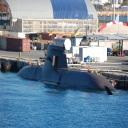submarine: (16, 44, 119, 96)
